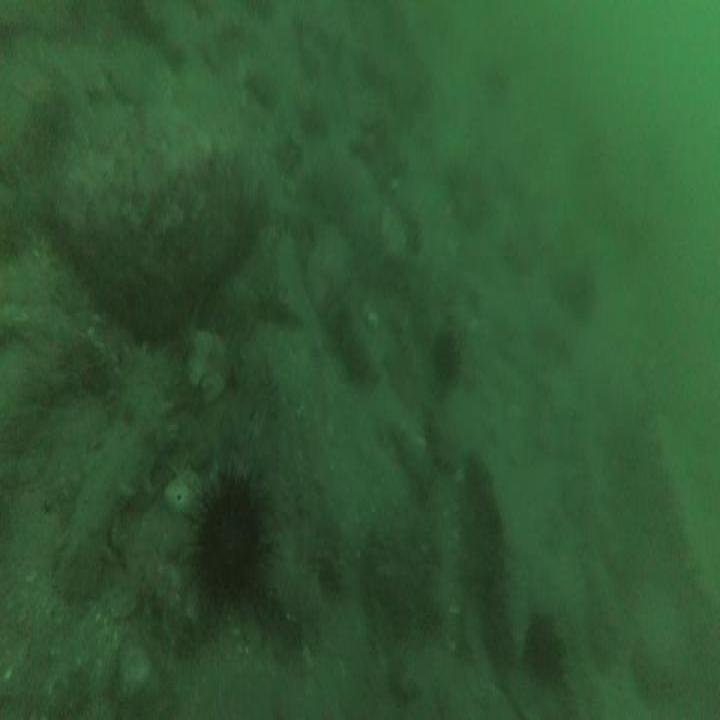echinus: (179, 457, 284, 624)
